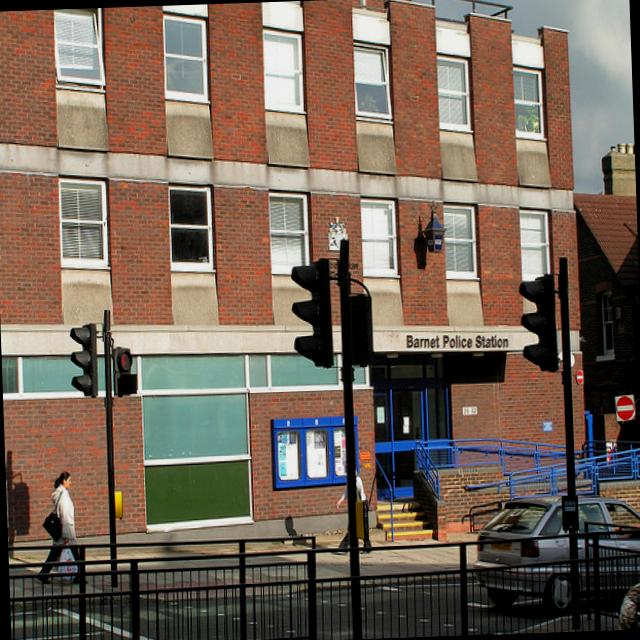Vehicle: (471, 491, 640, 621), (615, 566, 640, 629)
